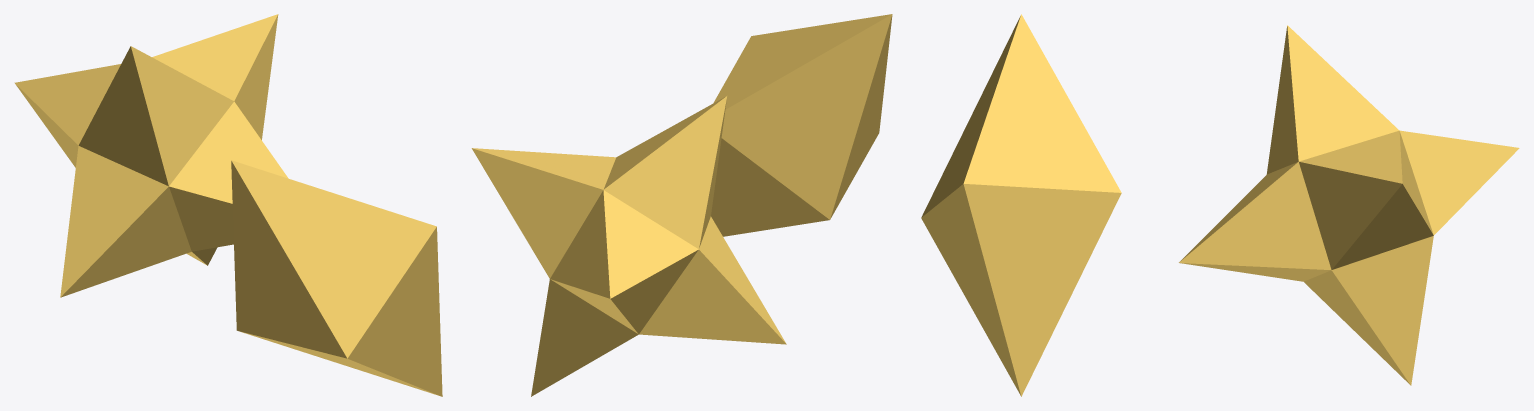
File: pickupItem.fbx
3 renders of one model, left to right at view 1: azimuth 30°, elevation 25°; view 2: azimuth 150°, elevation 25°; view 3: azimuth 270°, elevation 25°, orthographic. The views are drawn at different scales.
Parts seen in each view (by area): view 1: Max revive, Revive; view 2: Max revive, Revive; view 3: Max revive, Revive.
Part boxes in pixels (x1,y1,x2,y2): Max revive: [14, 14, 288, 297]; Revive: [231, 160, 442, 396]; Max revive: [471, 96, 786, 396]; Revive: [711, 14, 892, 236]; Max revive: [1179, 25, 1519, 385]; Revive: [921, 14, 1121, 396].
Bounding box in the file's own units: 9.4 × 9.9 × 18.27.
